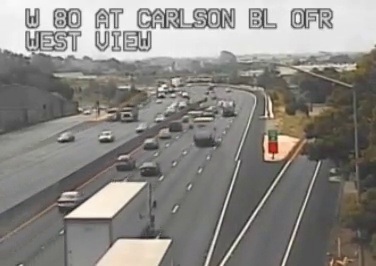car: (57, 191, 81, 211), (115, 155, 134, 170), (140, 161, 159, 175), (144, 138, 158, 150)
small-truck: (193, 117, 215, 143)
truck: (64, 180, 152, 266)
